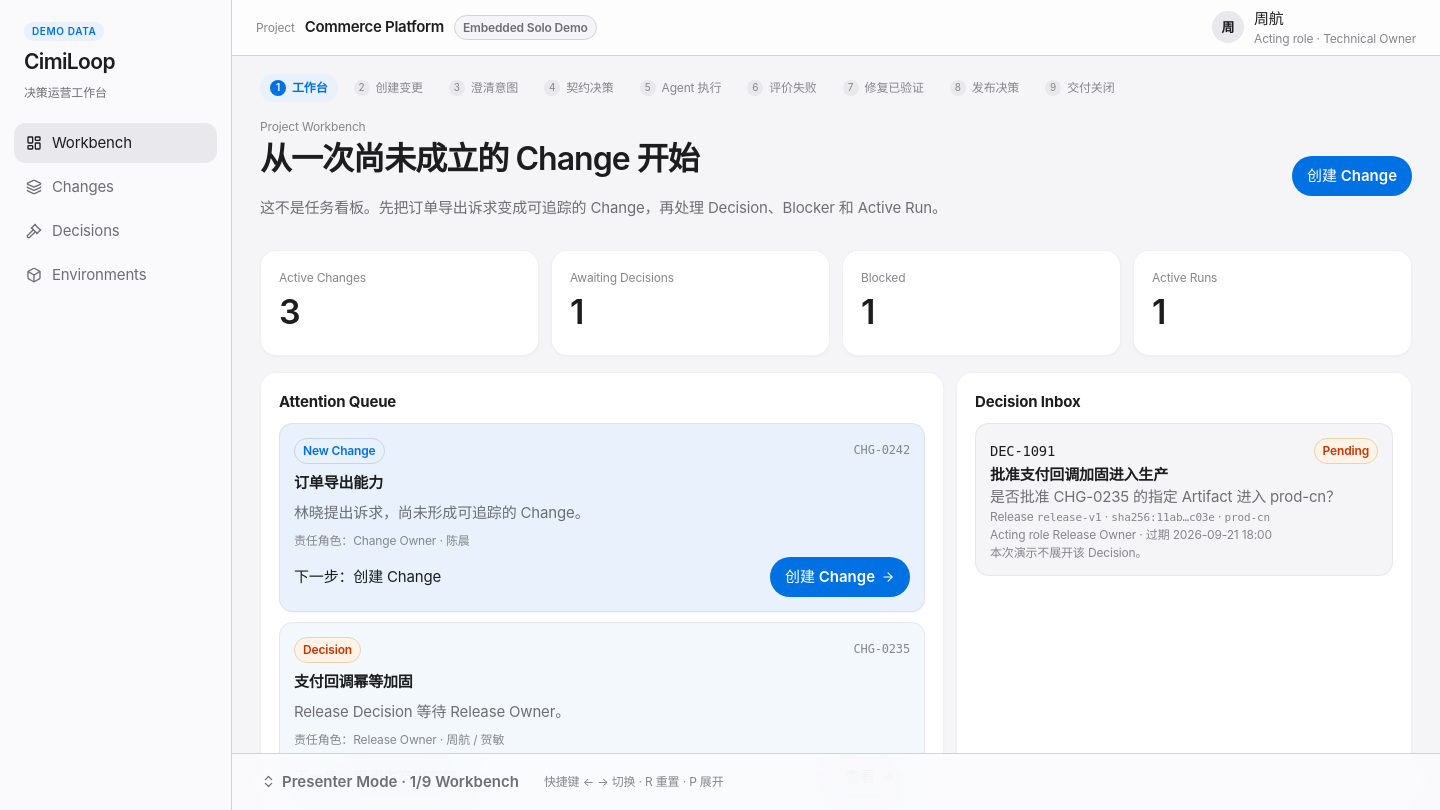
Scenario: create-to-close path › creates CHG-0242 as Draft and then clarifies into a contract decision
Click the button "创建 Change" in the row of "从一次尚未成立的 Change 开始": click(1352, 176) [1292,156,1412,196]
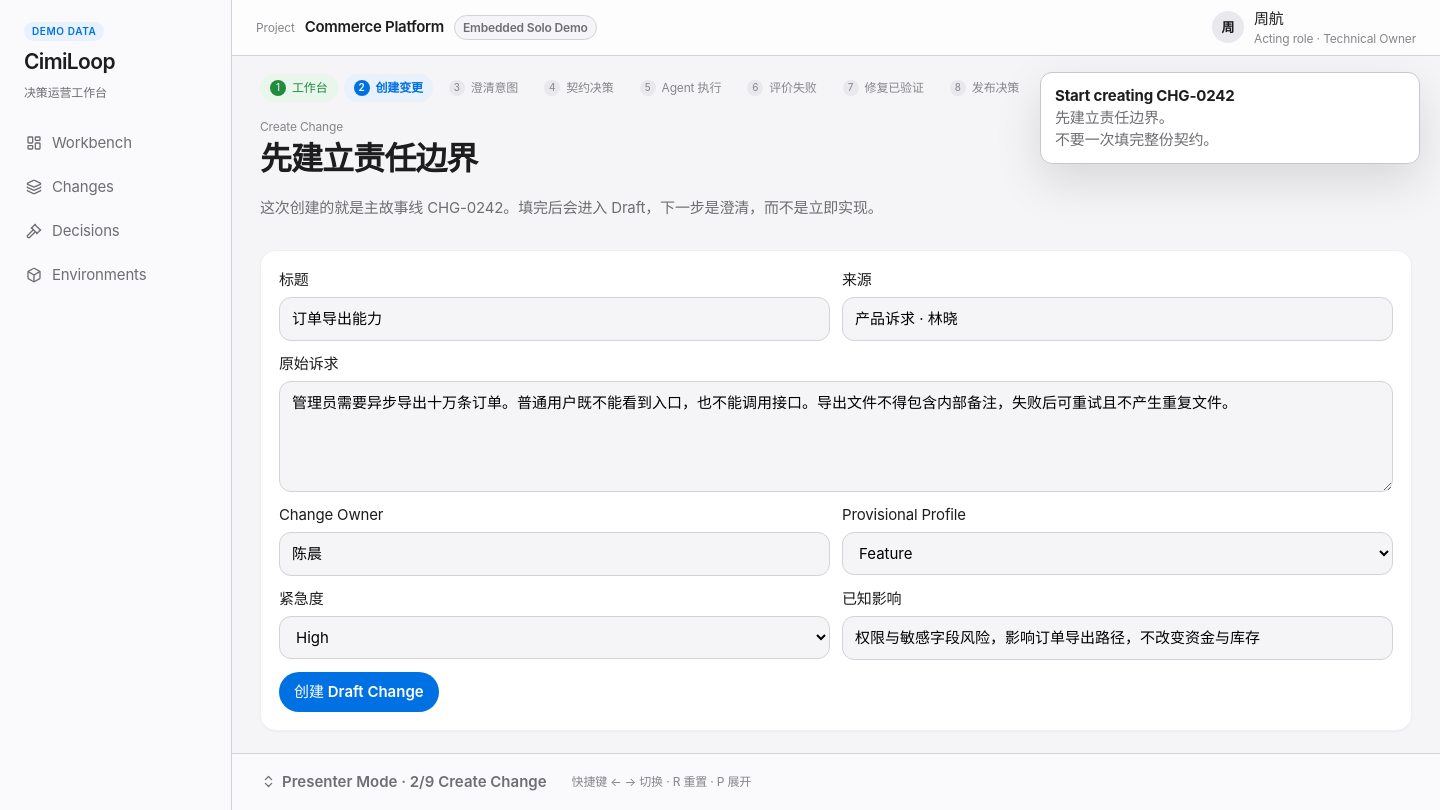
Click the button with test id "create-change-submit": click(359, 692) [279,672,439,712]
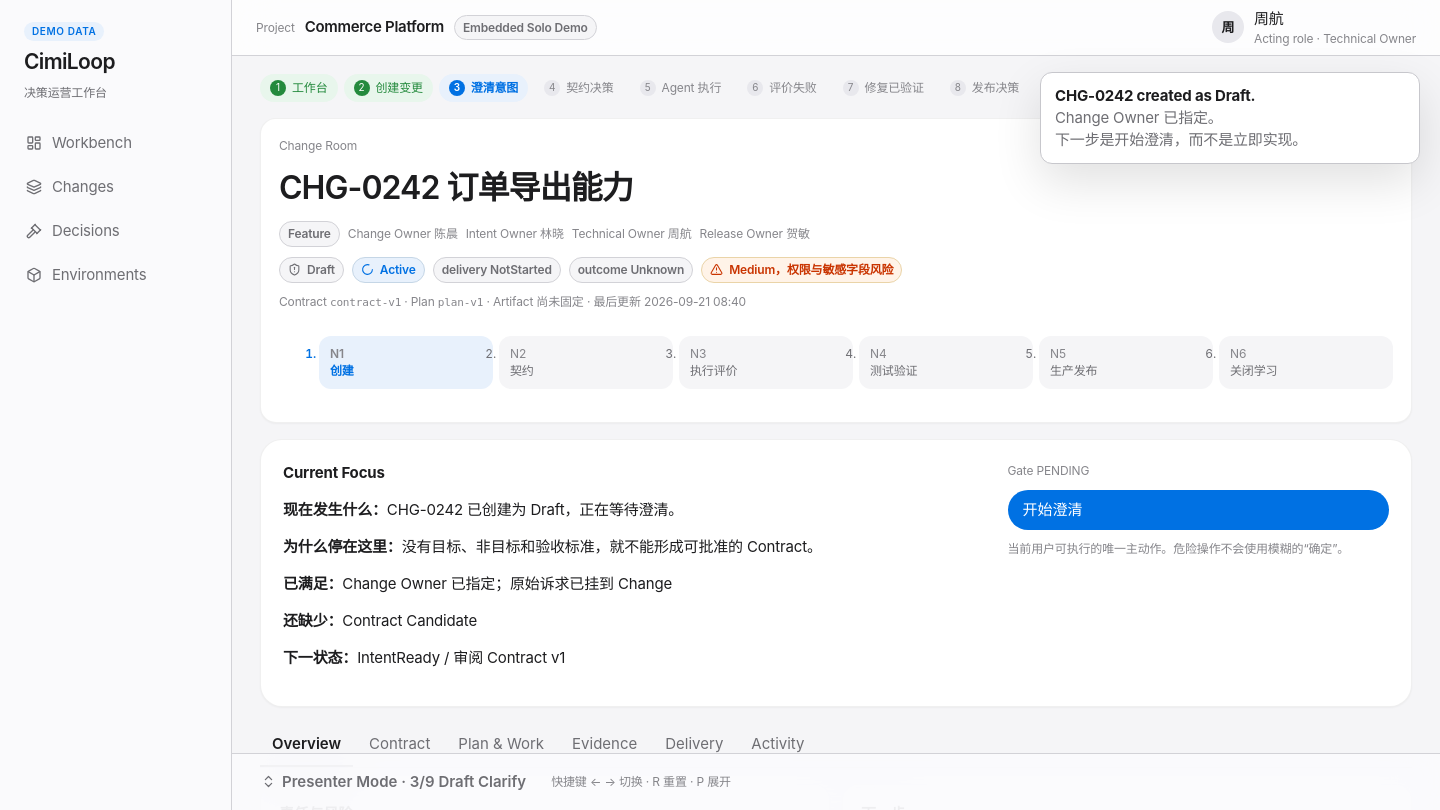
expect the element with test id "change-room" shows "CHG-0242": met, box [279,168,439,207]
expect the element with test id "change-room" shows "Draft": met, box [307,262,335,277]
expect the element with test id "current-focus" shows "开始澄清": met
Click the button with test id "primary-action": click(1053, 509) [1008,490,1389,530]
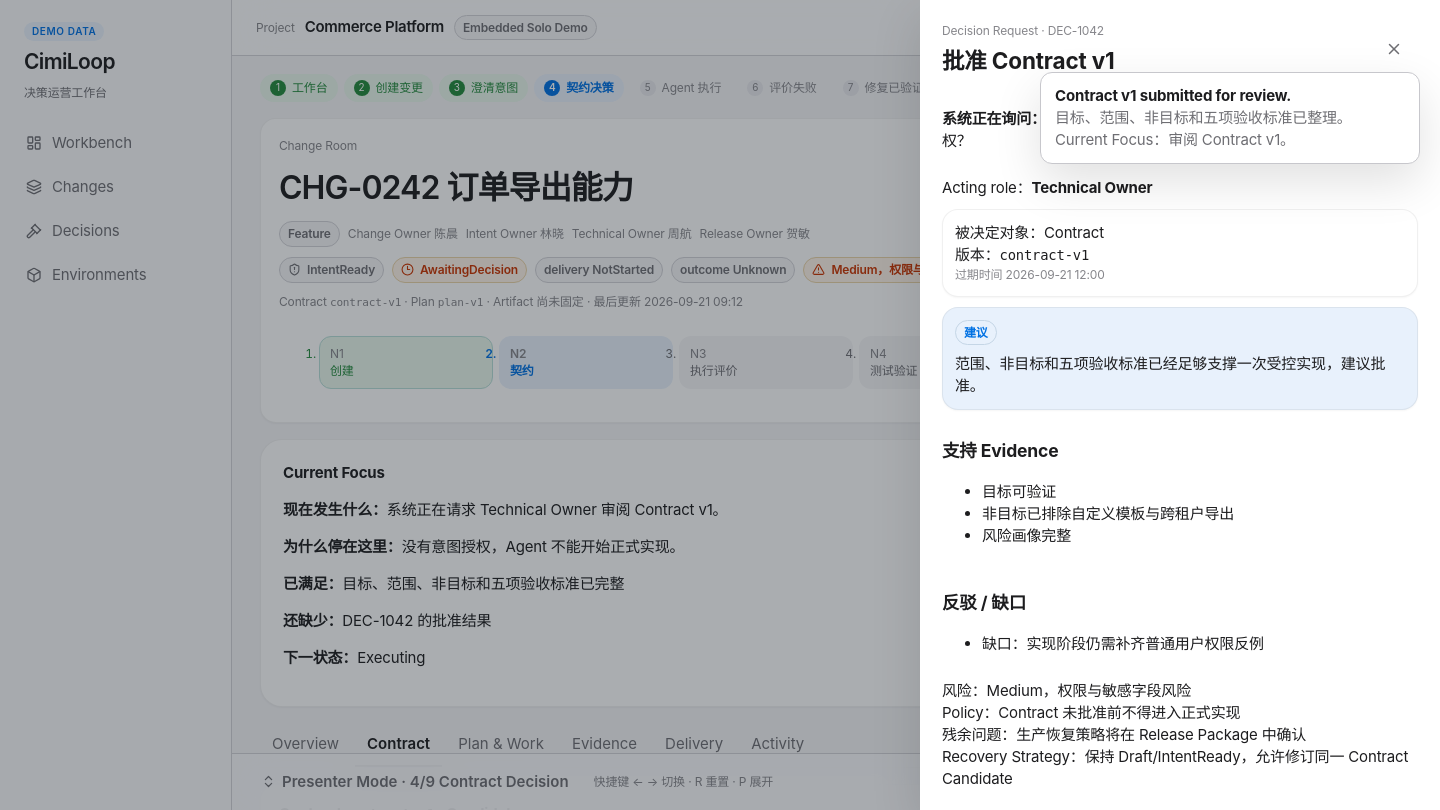
expect the element with test id "current-focus" shows "审阅 Contract v1": met, box [387,500,728,519]
expect the dialog with test id "decision-panel" shows "DEC-1042": met, box [1048,23,1104,38]
